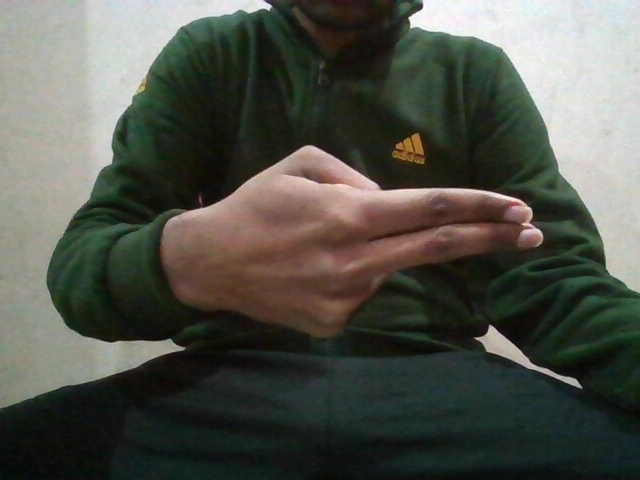H: (176, 147, 545, 336)
